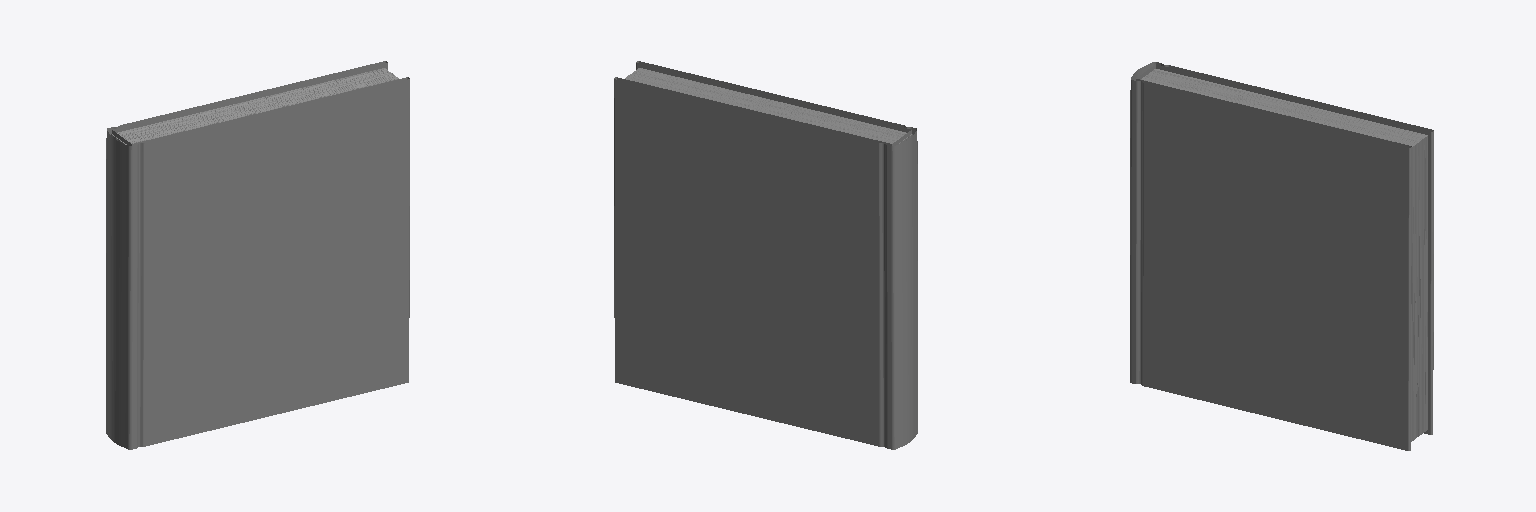
Rendered from Book01.obj.
3 renders of one model, left to right at view 1: azimuth 30°, elevation 25°; view 2: azimuth 150°, elevation 25°; view 3: azimuth 330°, elevation 25°, orthographic.
Parts seen in each view (by area): view 1: Book01; view 2: Book01; view 3: Book01.
Boxes of the visible parts, x1=… form: Book01: x1=106, y1=61, x2=409, y2=449; Book01: x1=614, y1=61, x2=917, y2=449; Book01: x1=1130, y1=62, x2=1433, y2=450.
Bounding box in the file's own units: 12.14 × 12.39 × 1.82.